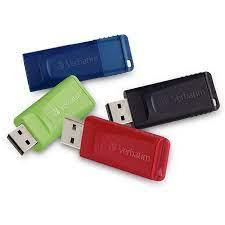Flash-drive: (60, 102, 171, 195), (21, 33, 140, 90), (109, 74, 222, 127), (16, 88, 93, 159)
